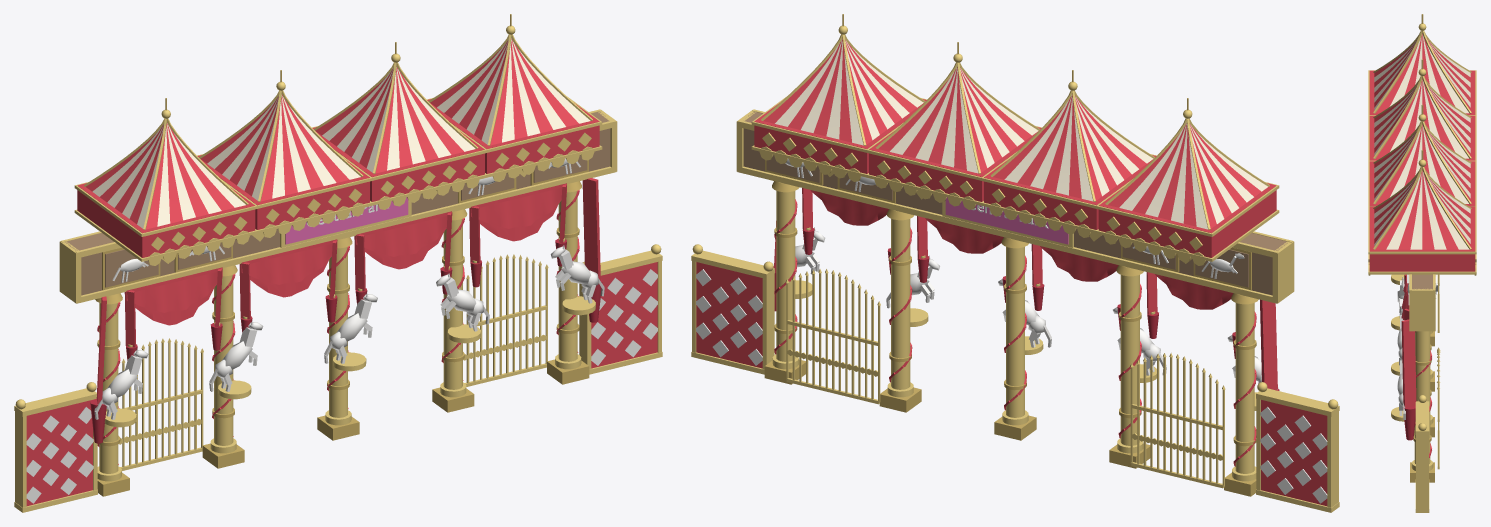
3 views of the same model, side by side, from view 1: azimuth 30°, elevation 25°; view 2: azimuth 150°, elevation 25°; view 3: azimuth 270°, elevation 25° (orthographic). The views are drawn at different scales.
Parts seen in each view (by area): view 1: base; view 2: base; view 3: base.
Part boxes in pixels (x1,y1,x2,y2): base: (14, 14, 662, 512); base: (691, 14, 1339, 512); base: (1368, 14, 1476, 512).
Bounding box in the file's own units: 16.83 × 9.38 × 3.03.
